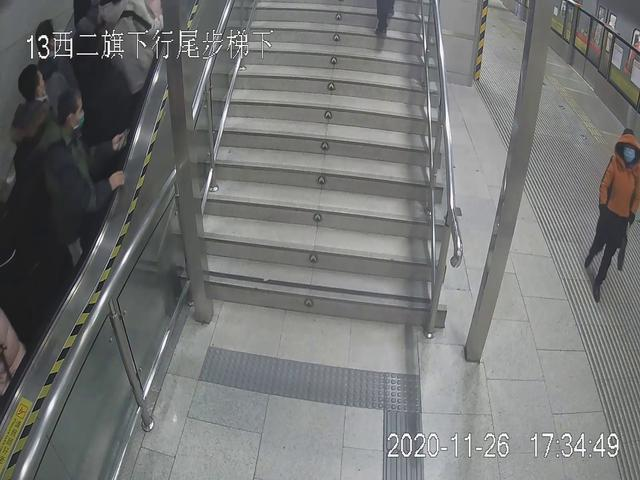person: (38, 85, 95, 263), (8, 63, 70, 208), (591, 129, 640, 301)
